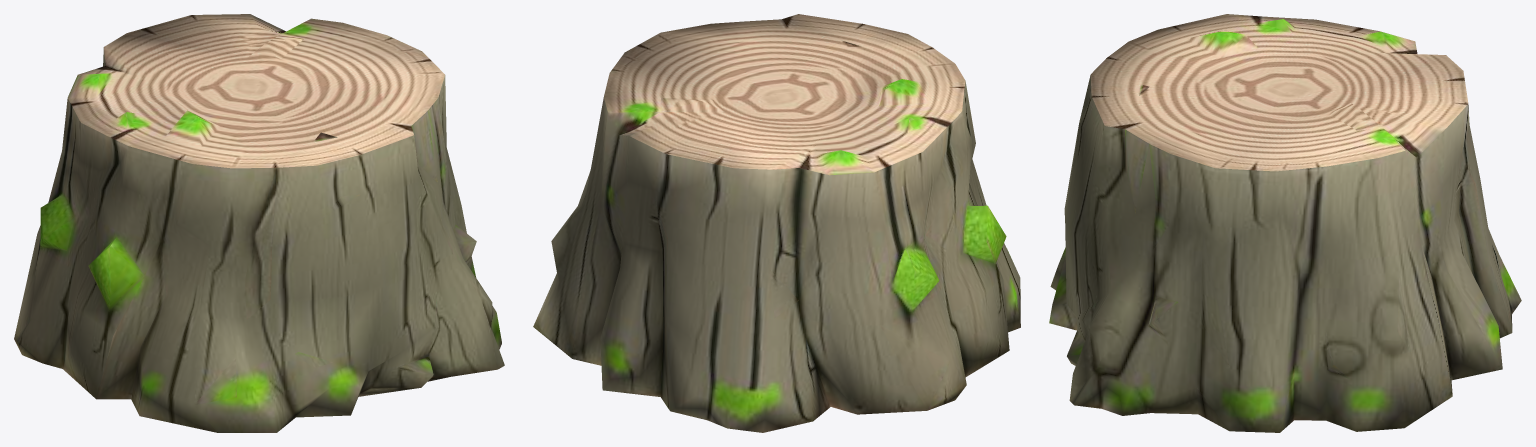
The model's file is p_stump.glb.
3 views of the same model, side by side, from view 1: azimuth 30°, elevation 25°; view 2: azimuth 150°, elevation 25°; view 3: azimuth 270°, elevation 25° (orthographic). The views are drawn at different scales.
Parts seen in each view (by area): view 1: Mesh_0; view 2: Mesh_0; view 3: Mesh_0.
Part boxes in pixels (x1,y1,x2,y2): Mesh_0: [14, 14, 504, 432]; Mesh_0: [533, 14, 1020, 432]; Mesh_0: [1049, 14, 1521, 432].
Bounding box in the file's own units: 1.69 × 1 × 1.68.
Materials: 1 (1 with a texture image).
